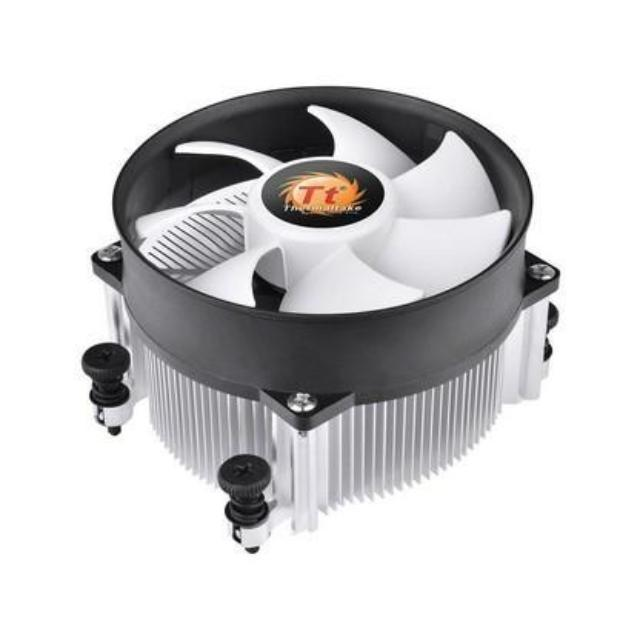CPU_Fan: (94, 82, 557, 540)
